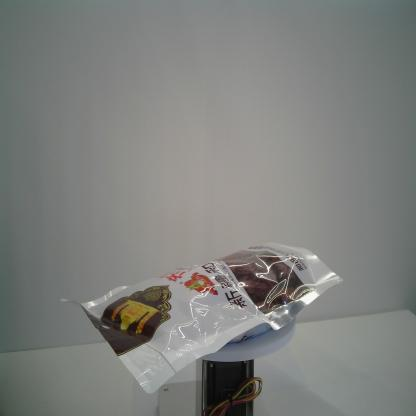Dried Food: (58, 234, 346, 403)
